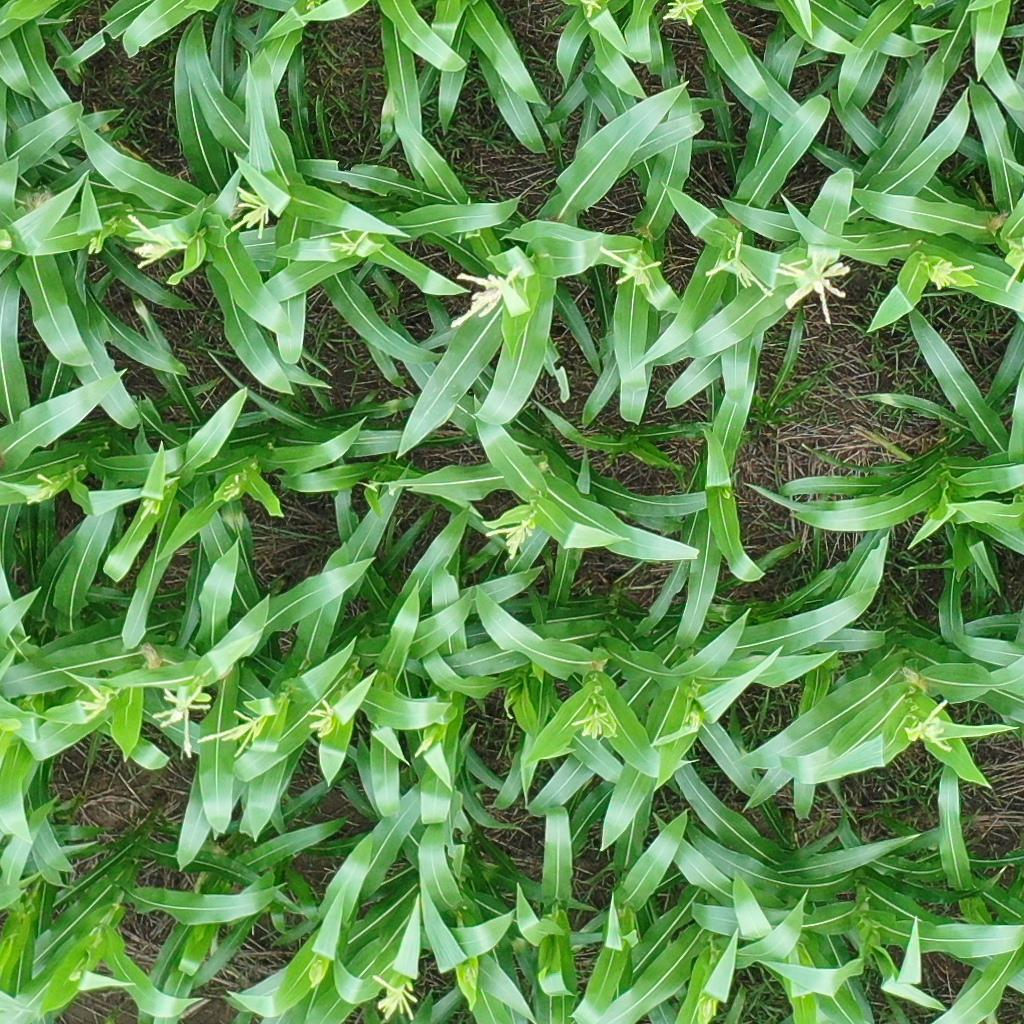Tassel: (774, 254, 854, 325), (446, 266, 530, 330), (148, 682, 209, 760), (703, 232, 772, 299), (596, 237, 664, 301), (899, 693, 960, 756), (119, 210, 185, 268), (223, 184, 283, 243), (198, 706, 263, 758), (482, 511, 538, 560), (69, 676, 119, 723), (923, 258, 976, 291), (567, 707, 613, 744), (305, 694, 340, 741), (1003, 234, 1024, 295), (657, 1, 706, 26), (331, 227, 371, 257), (19, 471, 54, 504), (136, 496, 163, 519), (222, 476, 242, 505), (412, 736, 435, 760), (460, 965, 478, 987), (681, 710, 700, 730)
